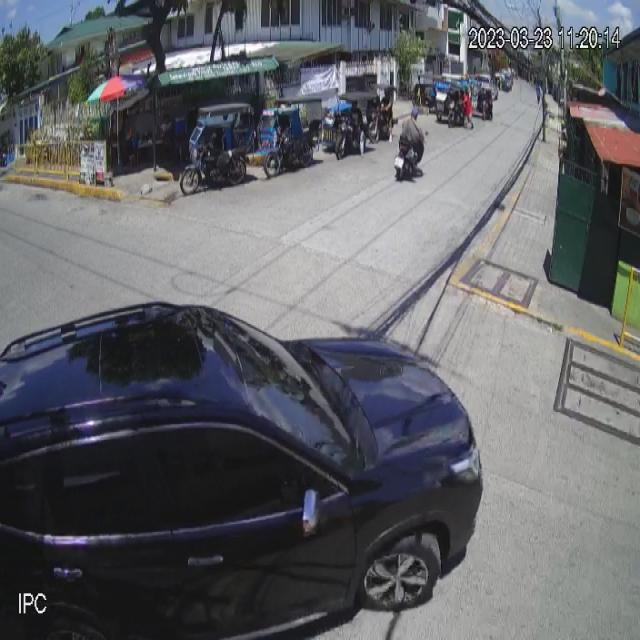Car: (0, 304, 486, 640)
Motorcycle: (392, 122, 424, 181)
